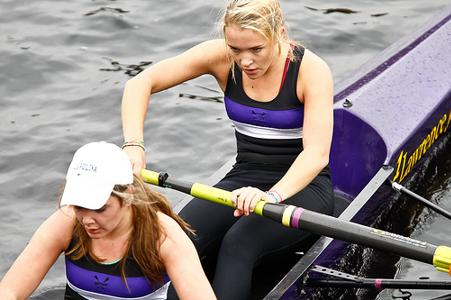person: (121, 1, 337, 299)
